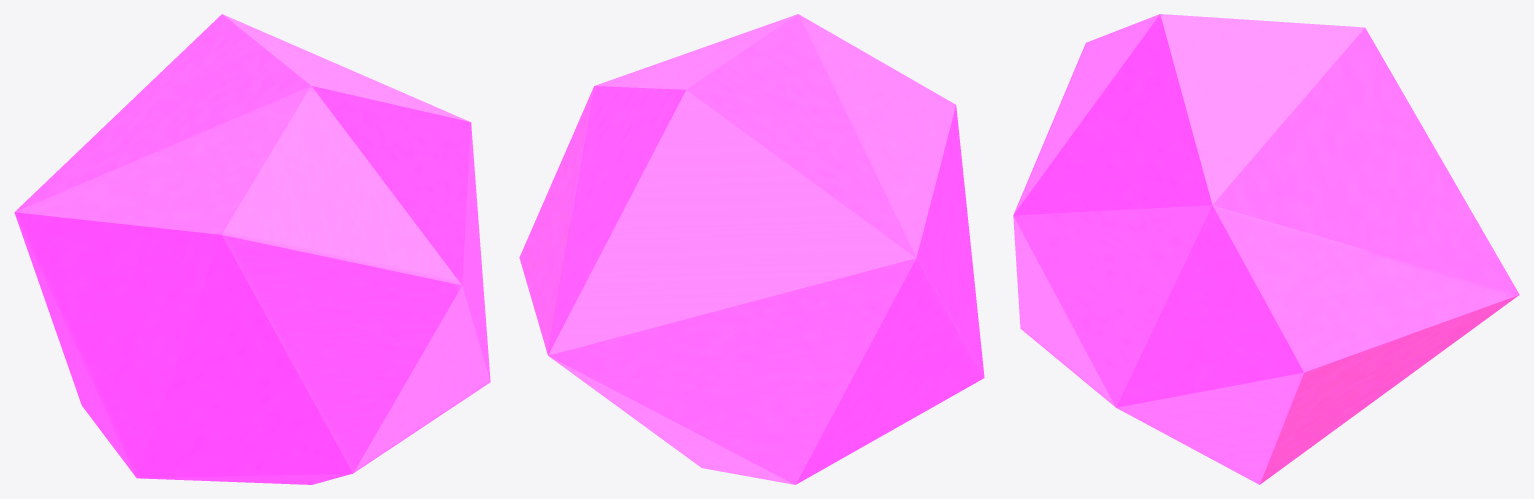
Rendered from Shield.glb.
3 views of the same model, side by side, from view 1: azimuth 30°, elevation 25°; view 2: azimuth 150°, elevation 25°; view 3: azimuth 270°, elevation 25° (orthographic). The views are drawn at different scales.
Parts seen in each view (by area): view 1: Sphere; view 2: Sphere; view 3: Sphere.
Part boxes in pixels (x1=…): Sphere: x1=14, y1=14, x2=490, y2=484; Sphere: x1=519, y1=14, x2=984, y2=484; Sphere: x1=1013, y1=14, x2=1519, y2=484.
Bounding box in the file's own units: 2.04 × 2.04 × 2.1.
